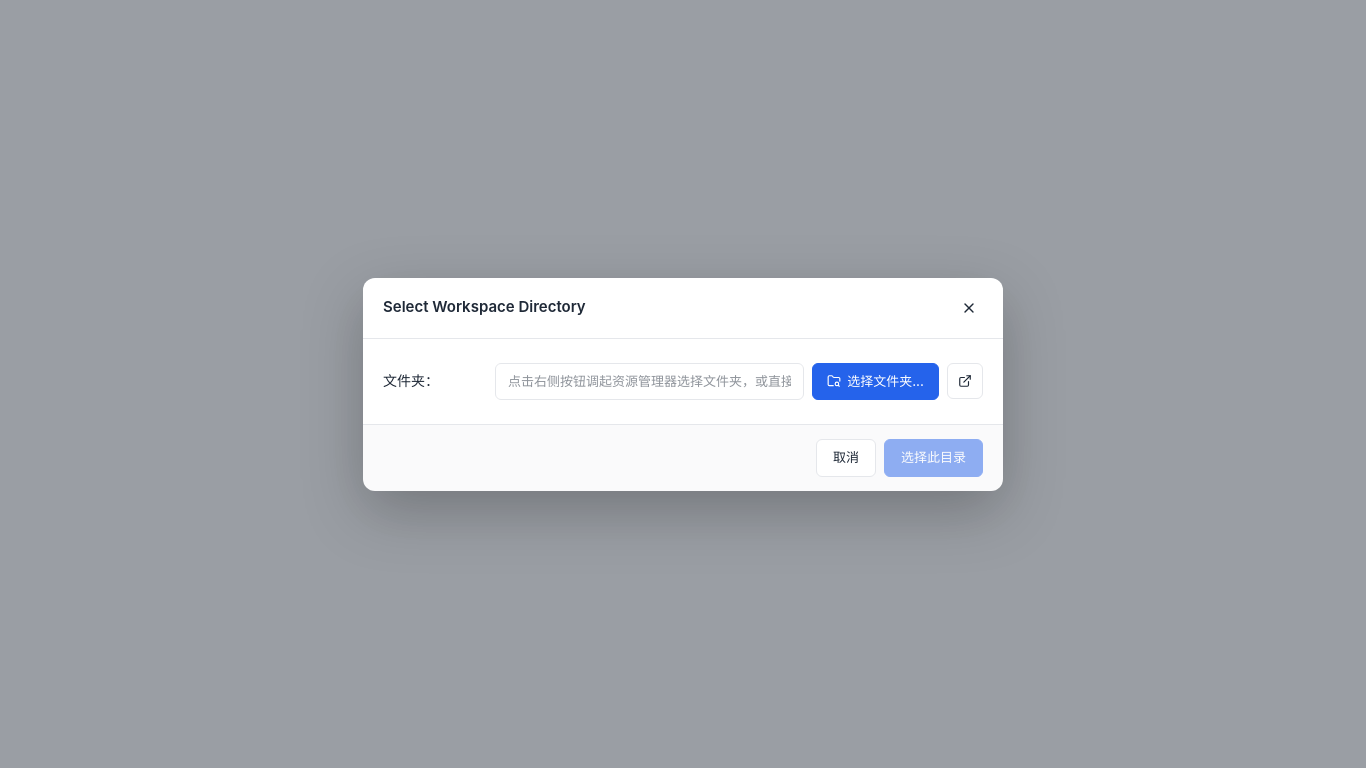
WorkspacePickerModal (v2 single-action) › polls until status=done and fills path
Click the button with test id "wp-pick-folder" at [876, 381], box [812,362,939,400]
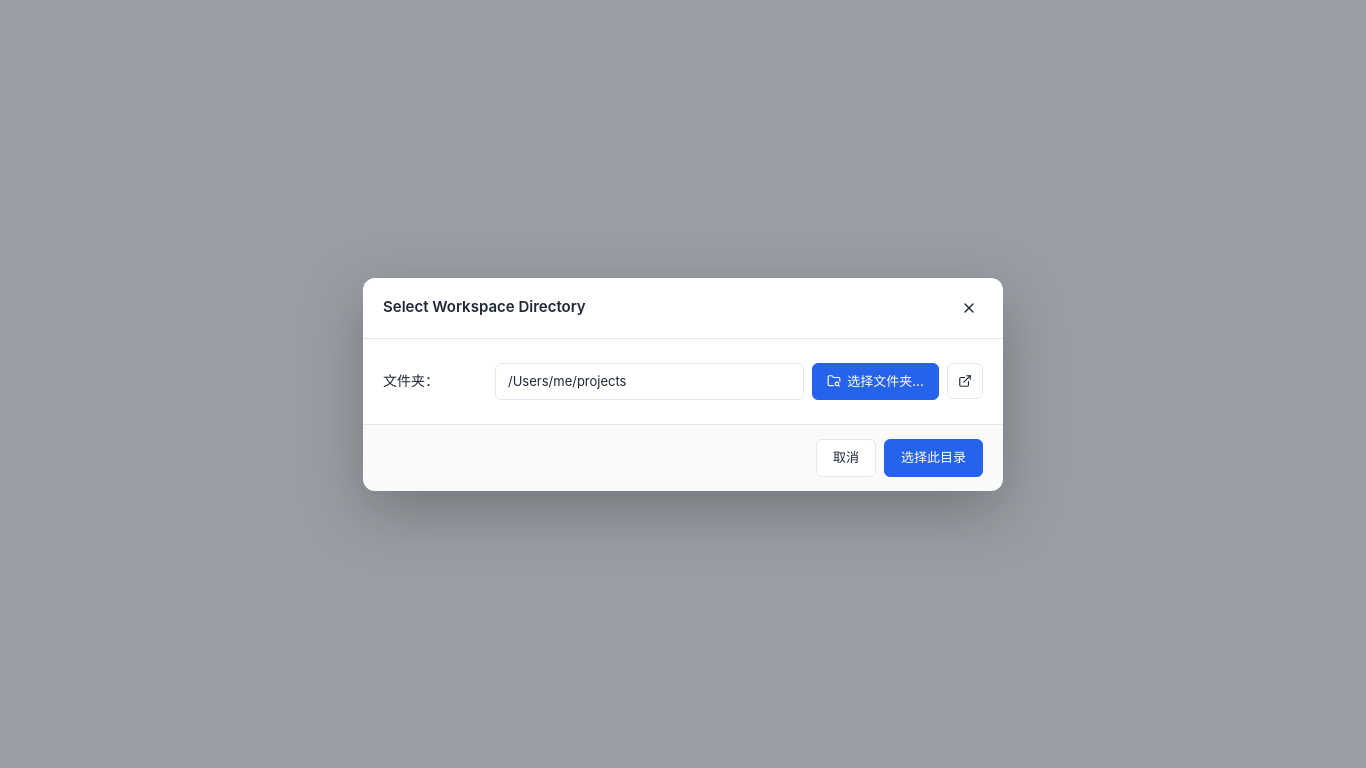
Check: the field with test id "wp-path-input" holds "/Users/me/projects", box [495,362,804,400]
